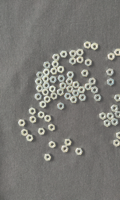nut: (108, 53, 116, 61), (84, 41, 92, 49), (70, 50, 78, 58), (77, 56, 85, 64), (85, 59, 93, 67), (89, 78, 97, 86), (79, 94, 87, 102), (57, 89, 65, 97), (44, 115, 52, 123), (21, 129, 29, 137), (44, 154, 52, 162), (76, 148, 84, 156), (92, 43, 99, 51), (60, 51, 68, 58), (53, 54, 61, 61), (107, 69, 115, 76), (82, 70, 90, 77), (108, 78, 115, 86), (52, 61, 60, 68), (58, 66, 65, 74), (43, 69, 51, 76), (67, 72, 75, 79), (42, 76, 50, 83), (50, 76, 57, 84), (35, 79, 43, 86), (85, 83, 92, 91), (92, 86, 99, 94), (94, 95, 102, 102), (66, 79, 74, 86), (73, 81, 80, 89), (78, 87, 86, 94), (60, 82, 67, 90), (72, 90, 80, 97), (49, 86, 57, 93), (42, 89, 50, 96), (70, 97, 78, 104), (35, 93, 42, 101), (40, 101, 47, 109), (111, 105, 119, 112), (107, 113, 115, 120), (113, 140, 120, 148), (38, 111, 45, 119), (30, 116, 37, 124), (18, 120, 26, 127), (49, 124, 56, 132), (38, 128, 46, 135), (26, 135, 34, 142), (49, 141, 56, 149), (77, 49, 84, 56), (70, 58, 77, 65), (44, 62, 51, 69), (51, 68, 58, 75), (37, 72, 44, 79), (67, 86, 74, 93), (43, 82, 50, 89), (51, 93, 58, 100), (65, 93, 72, 100), (58, 103, 65, 110), (44, 96, 51, 103), (100, 113, 107, 120), (112, 119, 119, 126), (29, 108, 36, 115), (65, 139, 72, 146), (62, 146, 69, 153), (58, 76, 66, 82), (36, 86, 44, 92), (115, 49, 120, 56), (115, 95, 120, 102), (115, 111, 120, 118), (117, 132, 120, 140)
